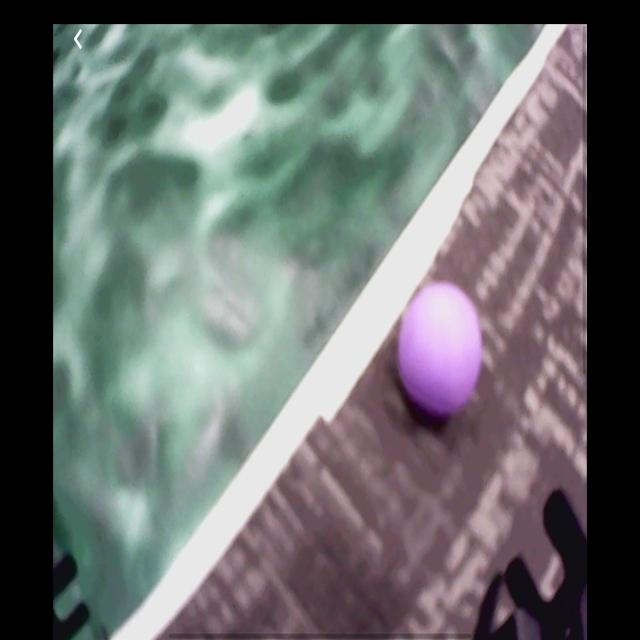ball: (400, 285, 480, 413)
